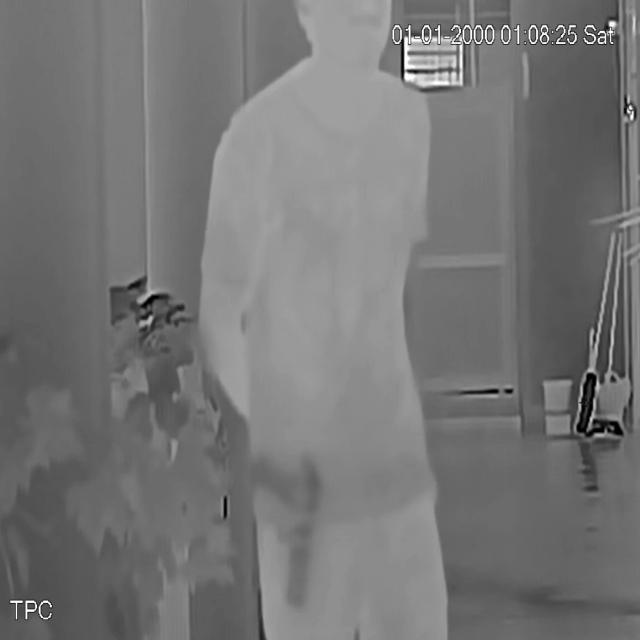Weapon: (248, 450, 332, 620)
